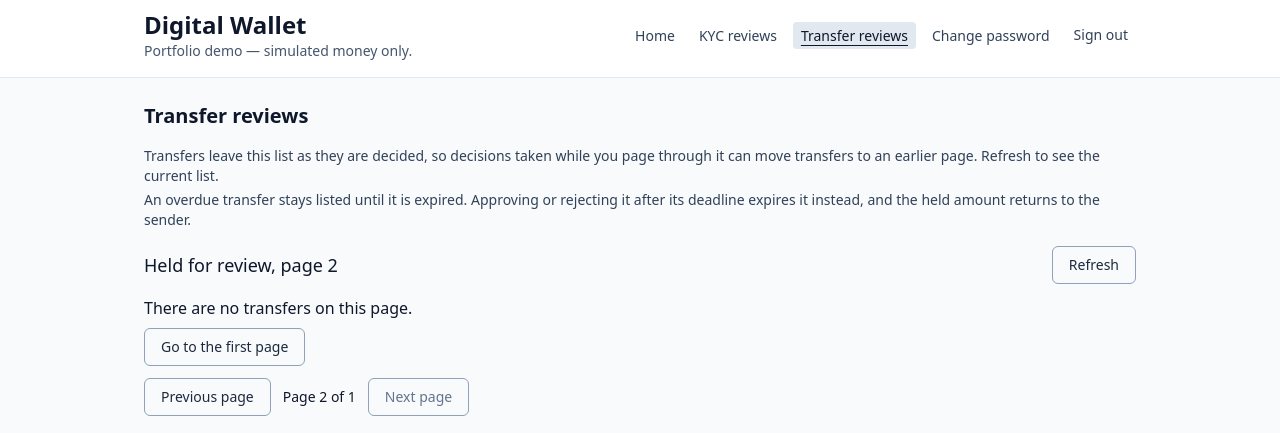
Test: Transfer review queue › a page emptied by decisions elsewhere offers the first page
Expected: the text "There are no transfers on this page." is shown, [144,297,412,319]
Click the button "Go to the first page" at (225, 347), box [144,328,305,366]
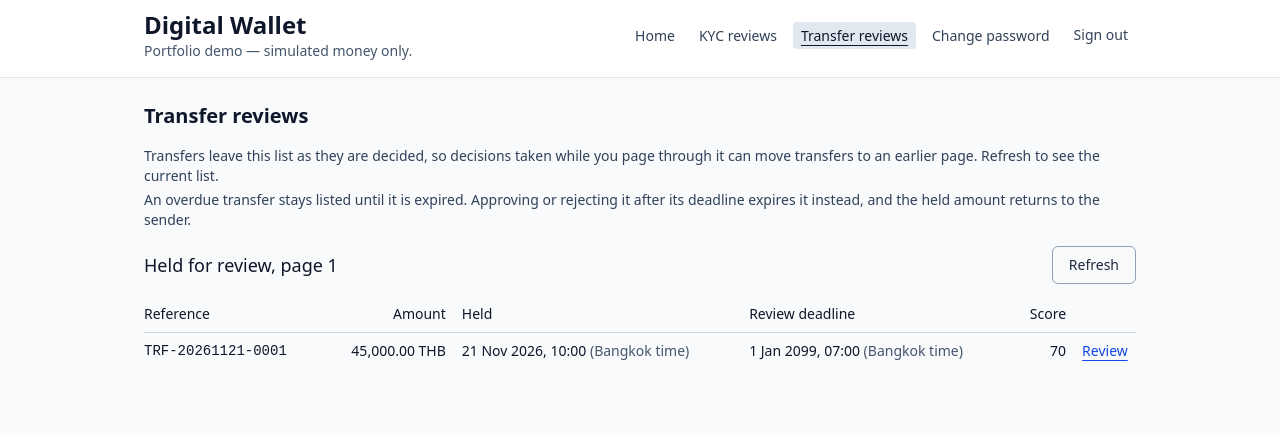
Expected: the text "TRF-20261121-0001" is shown, [144,333,332,369]
